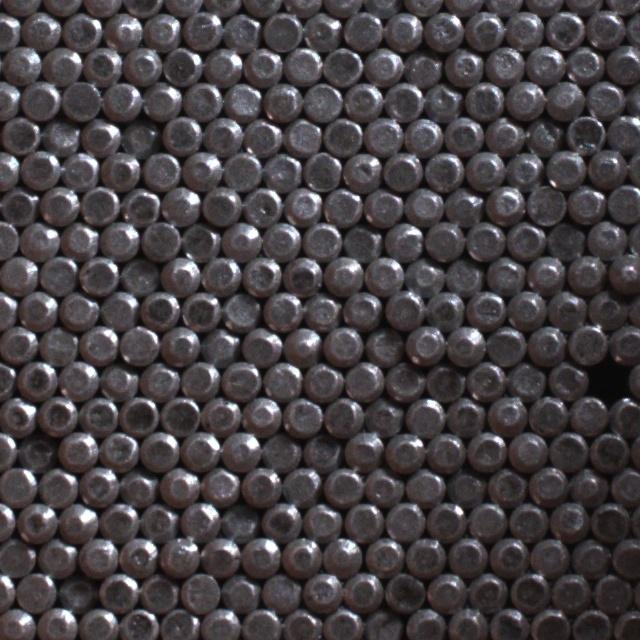tool: (140, 217, 182, 258), (17, 356, 58, 398), (591, 570, 632, 612), (383, 570, 424, 612), (117, 532, 158, 573), (179, 427, 219, 469), (468, 568, 508, 610), (504, 78, 544, 119), (17, 499, 58, 539), (364, 324, 404, 365), (362, 533, 402, 574), (567, 321, 607, 362), (525, 182, 565, 223), (426, 569, 466, 610), (341, 287, 382, 327), (342, 568, 383, 608), (506, 428, 546, 469), (584, 78, 624, 119), (158, 534, 198, 575), (564, 112, 605, 152), (585, 145, 625, 186), (58, 500, 99, 540), (550, 569, 590, 610), (280, 534, 320, 575), (36, 394, 76, 435), (78, 393, 118, 434), (588, 499, 629, 539), (302, 148, 342, 189), (322, 527, 363, 567), (159, 392, 200, 432), (512, 566, 553, 606), (526, 324, 566, 364), (404, 534, 444, 574), (322, 44, 362, 84), (322, 324, 362, 364), (524, 43, 564, 83), (200, 252, 240, 292), (447, 533, 487, 573), (528, 534, 568, 574), (544, 147, 584, 187), (342, 80, 382, 120), (404, 323, 444, 363), (38, 253, 78, 293), (549, 498, 589, 538), (15, 570, 55, 610), (79, 182, 119, 222), (78, 323, 118, 363), (262, 81, 302, 121), (201, 183, 241, 223), (323, 394, 363, 434), (38, 182, 78, 222), (507, 500, 547, 540), (527, 462, 567, 502), (422, 8, 462, 48), (484, 183, 524, 223), (362, 254, 402, 294), (584, 6, 624, 46), (342, 149, 382, 189), (570, 535, 610, 575), (527, 393, 567, 433), (385, 499, 425, 539), (62, 9, 102, 49), (199, 535, 239, 575), (323, 464, 363, 504), (382, 220, 422, 260), (35, 535, 75, 575), (323, 115, 363, 155), (301, 570, 341, 610), (565, 251, 605, 291), (262, 289, 302, 329), (179, 571, 219, 611), (37, 464, 77, 504), (383, 360, 423, 400), (138, 430, 178, 470), (240, 463, 280, 503), (261, 498, 301, 538), (158, 465, 198, 505), (485, 325, 525, 365), (182, 148, 222, 188), (281, 463, 321, 503), (162, 112, 202, 152), (262, 9, 302, 49), (138, 287, 178, 327), (260, 570, 300, 610), (548, 429, 588, 469), (343, 428, 383, 468), (442, 114, 482, 154), (220, 428, 260, 468), (486, 390, 526, 430), (384, 288, 424, 328), (444, 392, 484, 432), (180, 289, 220, 329), (487, 533, 527, 573), (424, 285, 464, 325), (101, 78, 140, 119), (179, 357, 218, 398), (323, 252, 362, 293), (61, 78, 100, 119), (589, 428, 628, 469), (59, 358, 98, 399), (282, 395, 321, 436), (466, 429, 505, 470), (384, 430, 423, 471), (160, 253, 199, 294), (423, 360, 464, 399), (283, 252, 321, 294), (120, 323, 159, 363), (99, 219, 138, 259), (424, 220, 463, 260), (42, 44, 82, 83), (343, 359, 382, 399), (138, 359, 178, 398), (141, 149, 181, 188), (343, 499, 383, 538), (545, 78, 584, 118), (223, 148, 262, 188), (445, 324, 484, 364), (242, 393, 281, 433), (546, 359, 586, 398), (466, 499, 506, 538), (221, 358, 260, 398), (524, 251, 564, 290), (463, 78, 502, 118), (568, 393, 608, 432), (464, 220, 503, 260), (363, 45, 402, 85), (423, 150, 462, 190), (200, 394, 239, 434), (121, 185, 160, 225), (323, 185, 362, 225), (21, 9, 61, 48), (464, 149, 503, 189), (141, 78, 180, 118), (404, 395, 443, 435), (183, 79, 223, 118), (77, 534, 116, 574), (160, 324, 199, 364), (241, 254, 280, 294), (364, 396, 403, 436), (425, 499, 465, 538), (101, 148, 140, 188), (200, 464, 239, 504), (162, 45, 202, 84), (466, 287, 505, 327), (98, 570, 137, 610), (425, 430, 464, 470), (484, 44, 523, 84), (58, 220, 98, 259), (544, 8, 583, 48), (283, 44, 322, 84), (464, 8, 503, 48), (82, 44, 122, 83), (261, 220, 300, 260), (404, 465, 444, 504), (565, 182, 604, 222), (443, 185, 483, 224), (382, 150, 421, 190), (486, 465, 526, 504), (240, 326, 280, 365), (281, 324, 320, 364), (120, 116, 159, 156), (383, 80, 422, 120), (178, 499, 218, 538), (546, 286, 586, 325), (220, 291, 260, 330), (220, 571, 259, 611), (202, 114, 241, 154), (80, 116, 120, 155), (0, 182, 39, 222), (341, 220, 381, 259), (546, 219, 586, 258), (486, 601, 526, 640), (587, 358, 627, 397), (79, 253, 117, 294), (240, 534, 278, 575), (528, 603, 570, 640), (505, 220, 544, 259), (302, 81, 341, 120), (303, 360, 342, 399), (20, 79, 59, 118), (123, 44, 162, 83), (503, 148, 542, 187), (242, 184, 281, 223), (243, 45, 282, 84), (21, 148, 60, 187), (262, 360, 301, 399), (403, 116, 442, 155), (342, 8, 381, 47), (403, 184, 442, 223), (100, 428, 139, 467), (564, 44, 603, 83), (504, 9, 543, 48), (301, 290, 340, 329), (99, 288, 138, 327), (183, 9, 222, 48), (119, 256, 158, 295), (363, 186, 402, 225), (0, 114, 39, 153), (161, 183, 200, 222), (138, 499, 177, 538), (18, 288, 57, 327), (38, 323, 77, 362), (41, 114, 80, 153), (484, 115, 523, 154), (139, 572, 178, 611), (78, 464, 117, 503), (261, 431, 300, 470), (585, 218, 624, 257), (58, 429, 97, 468), (182, 221, 221, 260), (465, 359, 504, 398), (220, 501, 259, 540), (302, 431, 341, 470), (523, 115, 562, 154), (301, 500, 341, 538), (442, 46, 482, 84), (20, 219, 58, 259), (222, 218, 260, 258), (506, 287, 544, 327), (364, 114, 402, 154), (445, 466, 485, 504), (588, 288, 628, 326), (16, 432, 56, 470), (119, 392, 159, 430), (447, 603, 488, 640), (223, 79, 261, 118), (203, 45, 241, 84), (403, 48, 441, 87), (283, 184, 322, 222), (99, 360, 138, 398), (506, 359, 545, 397), (2, 43, 40, 82), (443, 256, 482, 294), (243, 116, 282, 154), (98, 499, 136, 538), (382, 10, 421, 48), (423, 81, 461, 120), (264, 150, 302, 189), (222, 11, 260, 50), (568, 464, 606, 503), (61, 150, 99, 189), (143, 9, 181, 48), (105, 10, 144, 48), (302, 10, 341, 48), (59, 290, 98, 328), (404, 256, 443, 294), (118, 467, 157, 505), (363, 466, 402, 504), (56, 572, 94, 611), (484, 253, 522, 292), (0, 253, 37, 293), (302, 220, 340, 258), (200, 325, 238, 363), (283, 116, 321, 154), (0, 392, 36, 432), (0, 463, 36, 503), (404, 604, 444, 640), (605, 180, 640, 221), (78, 604, 117, 640), (200, 605, 240, 640), (160, 605, 200, 640), (322, 605, 362, 640), (118, 605, 158, 640), (604, 44, 640, 82), (0, 324, 36, 362), (36, 605, 75, 640), (282, 605, 321, 640), (241, 606, 281, 640), (364, 606, 404, 640), (606, 110, 640, 150), (572, 606, 612, 640), (607, 321, 640, 362), (607, 249, 640, 290), (0, 536, 34, 575), (607, 394, 640, 434), (0, 604, 35, 640), (609, 463, 640, 502), (611, 534, 640, 575), (613, 606, 640, 640), (0, 10, 21, 49), (0, 148, 20, 187), (0, 78, 19, 118), (0, 218, 18, 258), (162, 0, 202, 16), (0, 358, 16, 398), (361, 0, 400, 16), (0, 290, 16, 328), (242, 0, 282, 15), (0, 428, 15, 468), (203, 0, 242, 15)
